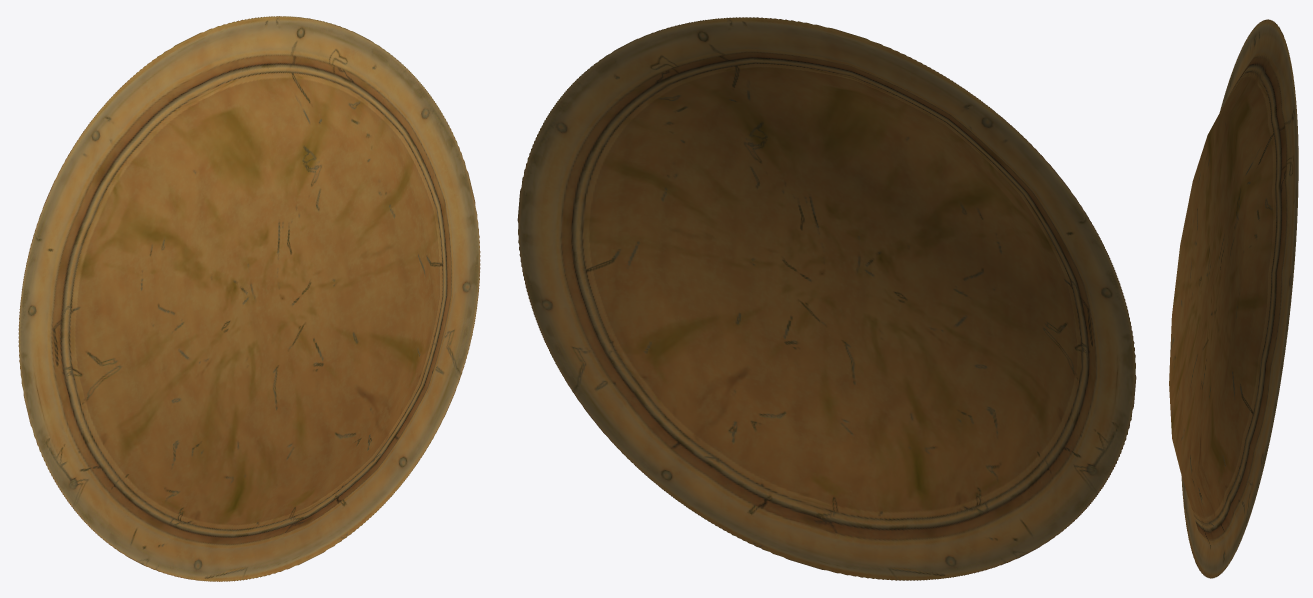
Rendered from aspis_02_back.dae.
The picture shows the model from 3 angles, left to right: view 1: azimuth 30°, elevation 25°; view 2: azimuth 150°, elevation 25°; view 3: azimuth 270°, elevation 25°; orthographic projection. The views are drawn at different scales.
Visible parts, largest first — view 1: Aspis_Back_Med; view 2: Aspis_Back_Med; view 3: Aspis_Back_Med.
Boxes of the visible parts, box(x1,y1,x2,y2) form: Aspis_Back_Med: box(18, 16, 480, 581); Aspis_Back_Med: box(517, 17, 1136, 580); Aspis_Back_Med: box(1169, 19, 1298, 578).
Bounding box in the file's own units: 1.9 × 0.4316 × 1.88.
Materials: 1 (1 with a texture image).
